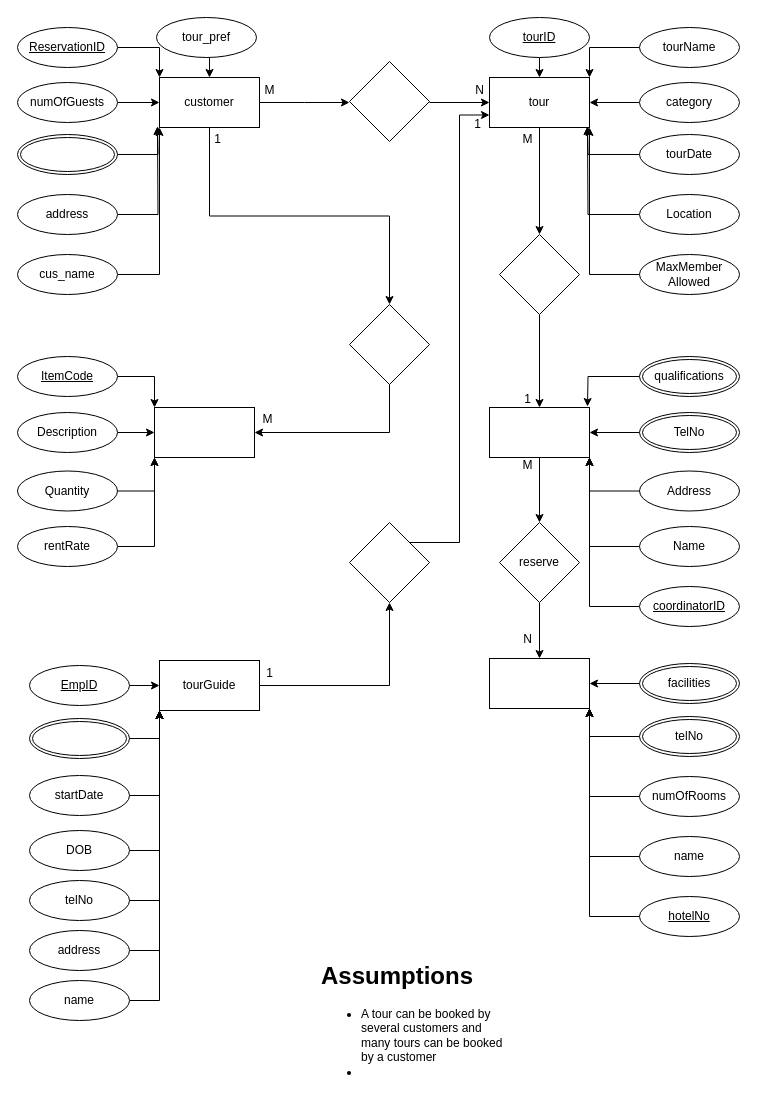
Image size: 757x1094. Some labels were removed from this diagram. Here are the shapes that lost their labels. From the top down, the centre of each, then its label:
pixel 389 101: books
pixel 67 154: telephone
pixel 539 274: coordinates
pixel 389 344: rent
pixel 204 432: equipment
pixel 539 432: tour_coordinator
pixel 389 562: assinged
pixel 539 683: hotel
pixel 79 738: specialTrainning
